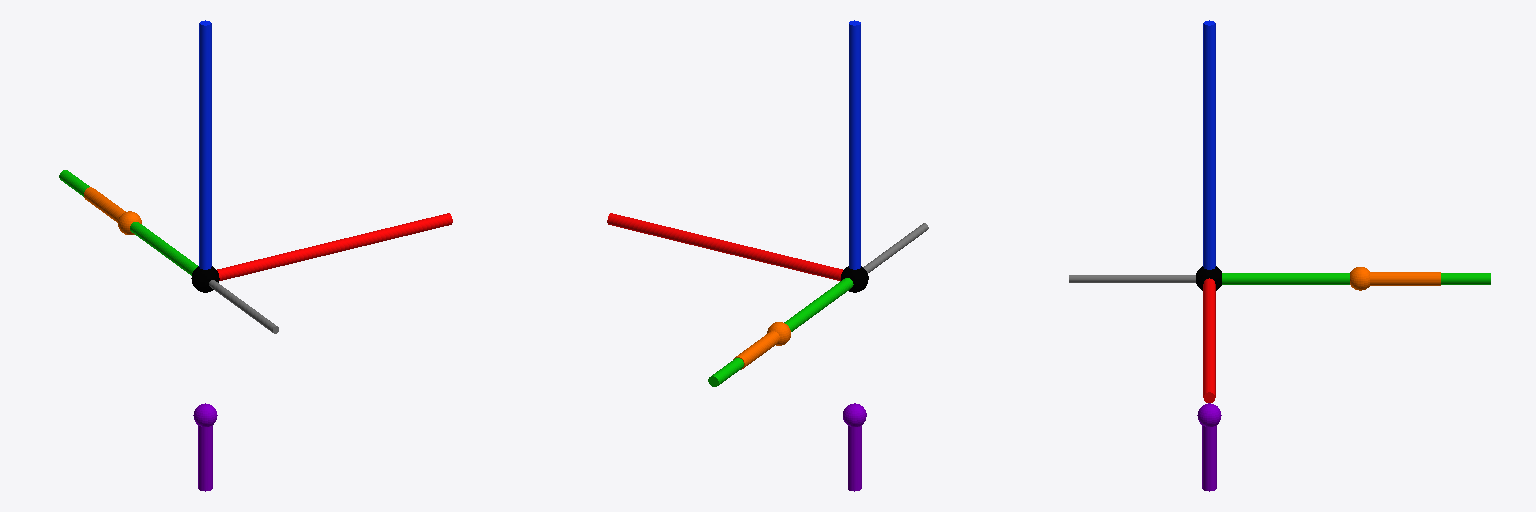
robot.urdf — t_motor_calibration_preview:
<?xml version="1.0"?>
<robot name="t_motor_calibration_preview">
  <material name="motor_blue"><color rgba="0.45 0.65 0.95 0.45"/></material>
  <material name="black"><color rgba="0.02 0.02 0.02 1"/></material>
  <material name="red"><color rgba="1 0.05 0.05 1"/></material>
  <material name="green"><color rgba="0.05 0.8 0.05 1"/></material>
  <material name="blue"><color rgba="0.05 0.2 1 1"/></material>
  <material name="purple"><color rgba="0.55 0.0 0.8 1"/></material>
  <material name="orange"><color rgba="1.0 0.45 0.0 1"/></material>
  <material name="grey"><color rgba="0.5 0.5 0.5 0.55"/></material>
  <link name="calibration_frame">
    <visual>
      <origin xyz="0 0 -0.1" rpy="0 0 0"/>
      <geometry><mesh filename="../../motor_model/T电机.stl" scale="0.001 0.001 0.001"/></geometry>
      <material name="motor_blue"/>
    </visual>
  </link>
  <link name="joint_origin_marker">
    <visual><origin xyz="0 0 0" rpy="0 0 0"/><geometry><sphere radius="0.007"/></geometry><material name="black"/></visual>
  </link>
  <joint name="joint_origin_marker_fixed" type="fixed"><parent link="calibration_frame"/><child link="joint_origin_marker"/><origin xyz="0 0 0" rpy="0 0 0"/></joint>
  <link name="x_axis_red">
    <visual><origin xyz="0.07 0 0" rpy="0 1.5707963267948966 0"/><geometry><cylinder radius="0.003" length="0.14"/></geometry><material name="red"/></visual>
  </link>
  <joint name="x_axis_fixed" type="fixed"><parent link="calibration_frame"/><child link="x_axis_red"/><origin xyz="0 0 0" rpy="0 0 0"/></joint>
  <link name="y_axis_green_child_direction">
    <visual><origin xyz="0 0.07 0" rpy="-1.5707963267948966 0 0"/><geometry><cylinder radius="0.003" length="0.14"/></geometry><material name="green"/></visual>
  </link>
  <joint name="y_axis_fixed" type="fixed"><parent link="calibration_frame"/><child link="y_axis_green_child_direction"/><origin xyz="0 0 0" rpy="0 0 0"/></joint>
  <link name="z_axis_blue_joint_axis_candidate_A">
    <visual><origin xyz="0 0 0.07" rpy="0 0 0"/><geometry><cylinder radius="0.003" length="0.14"/></geometry><material name="blue"/></visual>
  </link>
  <joint name="z_axis_fixed" type="fixed"><parent link="calibration_frame"/><child link="z_axis_blue_joint_axis_candidate_A"/><origin xyz="0 0 0" rpy="0 0 0"/></joint>
  <link name="parent_point_purple">
    <visual><origin xyz="0 0 0" rpy="0 0 0"/><geometry><sphere radius="0.006"/></geometry><material name="purple"/></visual>
  </link>
  <joint name="parent_point_fixed" type="fixed"><parent link="calibration_frame"/><child link="parent_point_purple"/><origin xyz="0 0 -0.075" rpy="0 0 0"/></joint>
  <link name="parent_direction_purple_minus_z">
    <visual><origin xyz="0 0 -0.095" rpy="0 0 0"/><geometry><cylinder radius="0.0035" length="0.04"/></geometry><material name="purple"/></visual>
  </link>
  <joint name="parent_direction_fixed" type="fixed"><parent link="calibration_frame"/><child link="parent_direction_purple_minus_z"/><origin xyz="0 0 0" rpy="0 0 0"/></joint>
  <link name="child_point_orange">
    <visual><origin xyz="0 0 0" rpy="0 0 0"/><geometry><sphere radius="0.006"/></geometry><material name="orange"/></visual>
  </link>
  <joint name="child_point_fixed" type="fixed"><parent link="calibration_frame"/><child link="child_point_orange"/><origin xyz="0 0.075 0" rpy="0 0 0"/></joint>
  <link name="child_direction_orange_plus_y">
    <visual><origin xyz="0 0.095 0" rpy="-1.5707963267948966 0 0"/><geometry><cylinder radius="0.0035" length="0.04"/></geometry><material name="orange"/></visual>
  </link>
  <joint name="child_direction_fixed" type="fixed"><parent link="calibration_frame"/><child link="child_direction_orange_plus_y"/><origin xyz="0 0 0" rpy="0 0 0"/></joint>
  <link name="alternate_axis_y_grey">
    <visual><origin xyz="0 -0.035 0" rpy="-1.5707963267948966 0 0"/><geometry><cylinder radius="0.002" length="0.07"/></geometry><material name="grey"/></visual>
  </link>
  <joint name="alternate_axis_y_fixed" type="fixed"><parent link="calibration_frame"/><child link="alternate_axis_y_grey"/><origin xyz="0 0 0" rpy="0 0 0"/></joint>
</robot>

--- Facts derived from the render (not from the file) ---
3 views of the same robot in one strip: view 1: azimuth 30°, elevation 25°; view 2: azimuth 150°, elevation 25°; view 3: azimuth 270°, elevation 25° (orthographic).
Model t_motor_calibration_preview with 10 links and 9 joints (9 fixed), rooted at calibration_frame, posed all joints at 0.
Links seen in each view (by area): view 1: z_axis_blue_joint_axis_candidate_A, x_axis_red, y_axis_green_child_direction, parent_direction_purple_minus_z, alternate_axis_y_grey, child_direction_orange_plus_y; view 2: z_axis_blue_joint_axis_candidate_A, x_axis_red, y_axis_green_child_direction, parent_direction_purple_minus_z, child_direction_orange_plus_y, alternate_axis_y_grey; view 3: z_axis_blue_joint_axis_candidate_A, y_axis_green_child_direction, x_axis_red, alternate_axis_y_grey, child_direction_orange_plus_y, parent_direction_purple_minus_z.
Boxes of the visible links, x1,y1,x2,y2 form: z_axis_blue_joint_axis_candidate_A: (199, 20, 211, 269); x_axis_red: (217, 213, 452, 280); y_axis_green_child_direction: (59, 170, 197, 275); parent_direction_purple_minus_z: (198, 425, 212, 491); alternate_axis_y_grey: (209, 280, 278, 333); child_direction_orange_plus_y: (84, 187, 125, 222); z_axis_blue_joint_axis_candidate_A: (849, 20, 860, 269); x_axis_red: (607, 213, 842, 280); y_axis_green_child_direction: (708, 278, 853, 386); parent_direction_purple_minus_z: (848, 425, 861, 491); child_direction_orange_plus_y: (733, 331, 779, 369); alternate_axis_y_grey: (863, 223, 928, 272); z_axis_blue_joint_axis_candidate_A: (1203, 20, 1215, 269); y_axis_green_child_direction: (1222, 273, 1490, 284); x_axis_red: (1203, 278, 1215, 402); alternate_axis_y_grey: (1069, 275, 1195, 282); child_direction_orange_plus_y: (1370, 272, 1440, 285); parent_direction_purple_minus_z: (1202, 425, 1216, 491).
Bounding box of the posed robot: 0.147 × 0.21 × 0.255 m (x, y, z).
Meshes: 1 distinct files referenced, 0 mesh visuals loaded (none loaded); not drawn: 1 (reference not matched to a file when rendering).
